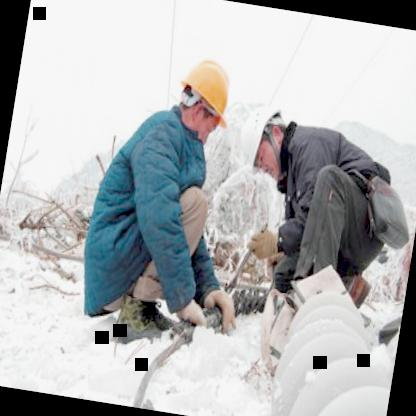helmet: (167, 44, 244, 150), (233, 95, 294, 184)
